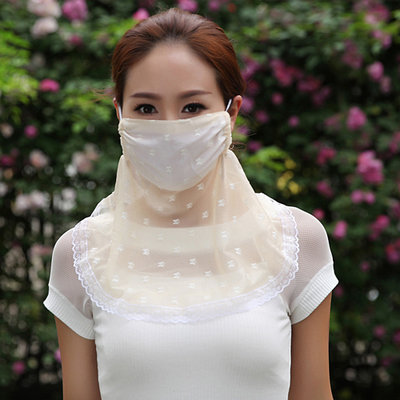face_mask: (119, 46, 229, 188)
